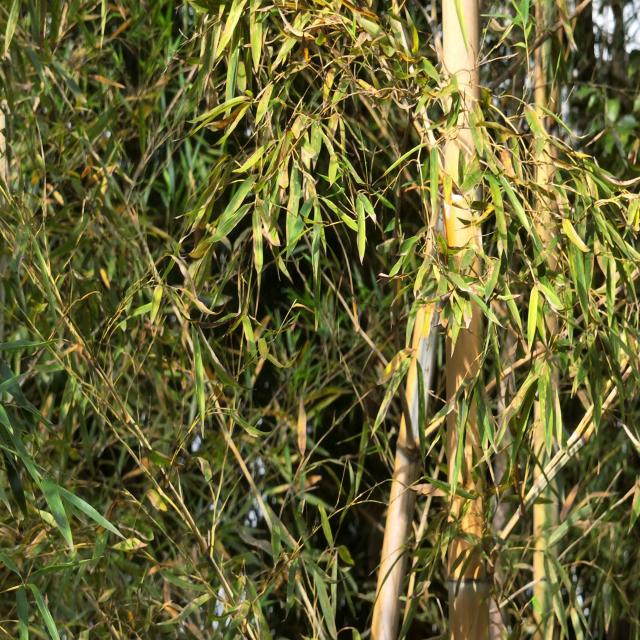Bamboo-shoots: (441, 0, 491, 640)
